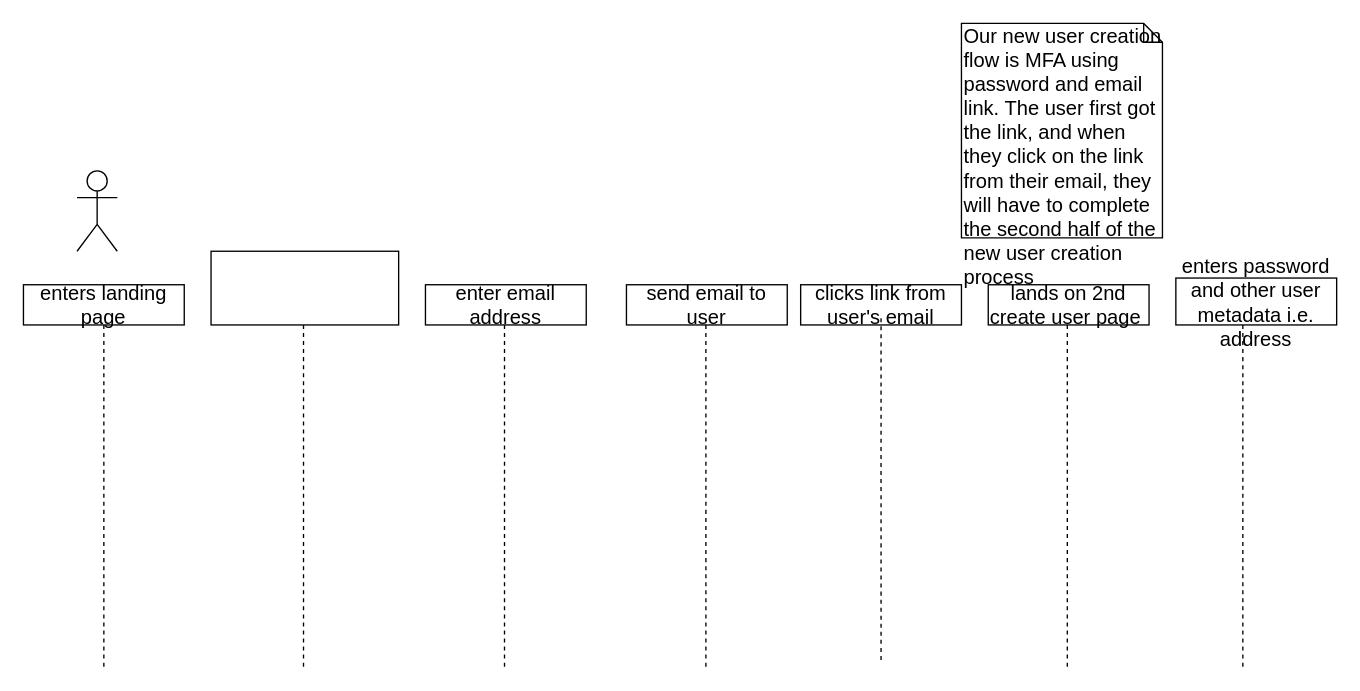
Image size: 1360x691. Some labels were removed from this diagram. Each missing label, with the centre of its shape:
Actor: (96,210)
navigate to create new user creation page: (304,287)
